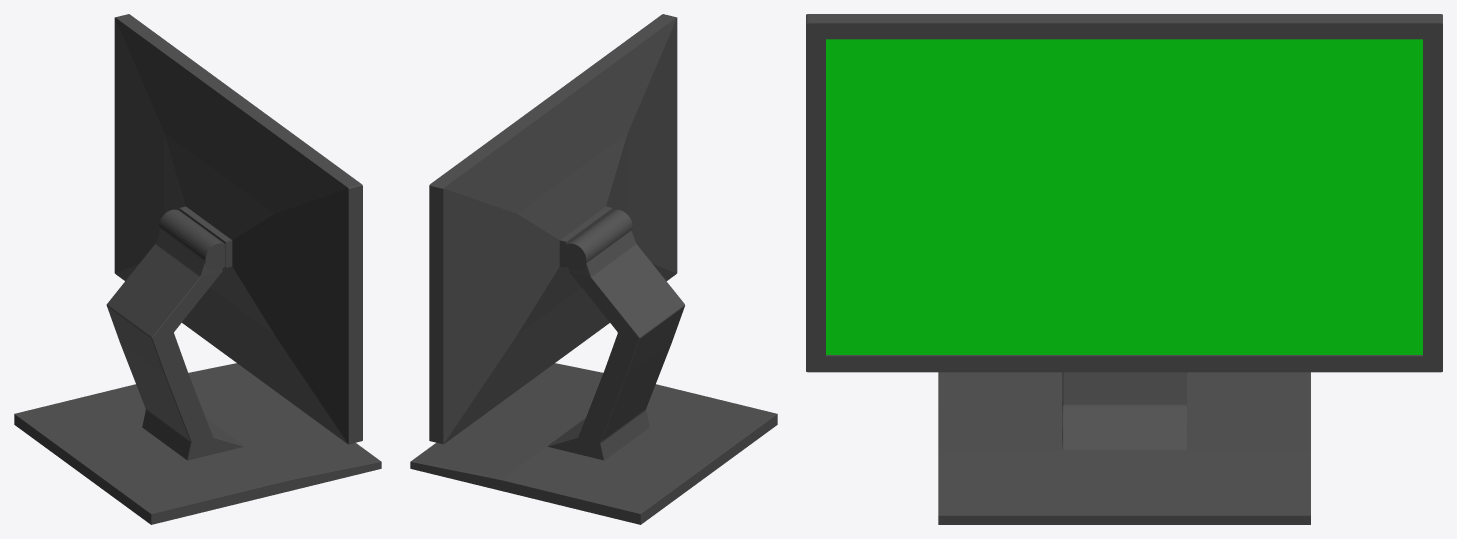
The model's file is MONITOR.fbx.
The picture shows the model from 3 angles, left to right: view 1: azimuth 30°, elevation 25°; view 2: azimuth 150°, elevation 25°; view 3: azimuth 270°, elevation 25°; orthographic projection. The views are drawn at different scales.
Parts seen in each view (by area): view 1: Cylinder; view 2: Cylinder; view 3: Cylinder.001, Cylinder.
Part boxes in pixels (x1,y1,x2,y2): Cylinder: [14, 14, 381, 524]; Cylinder: [410, 14, 777, 524]; Cylinder.001: [826, 39, 1422, 354]; Cylinder: [806, 14, 1442, 524].
Size of the model in its own units: 132 by 184 by 232.
